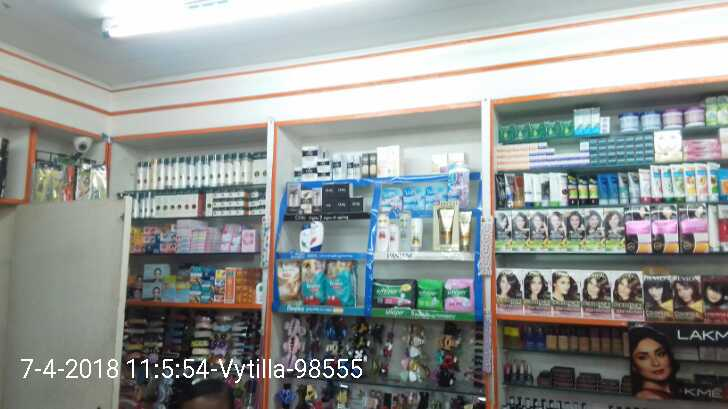venus: (449, 167, 470, 206), (426, 184, 447, 208), (404, 188, 425, 208), (383, 188, 403, 208)
